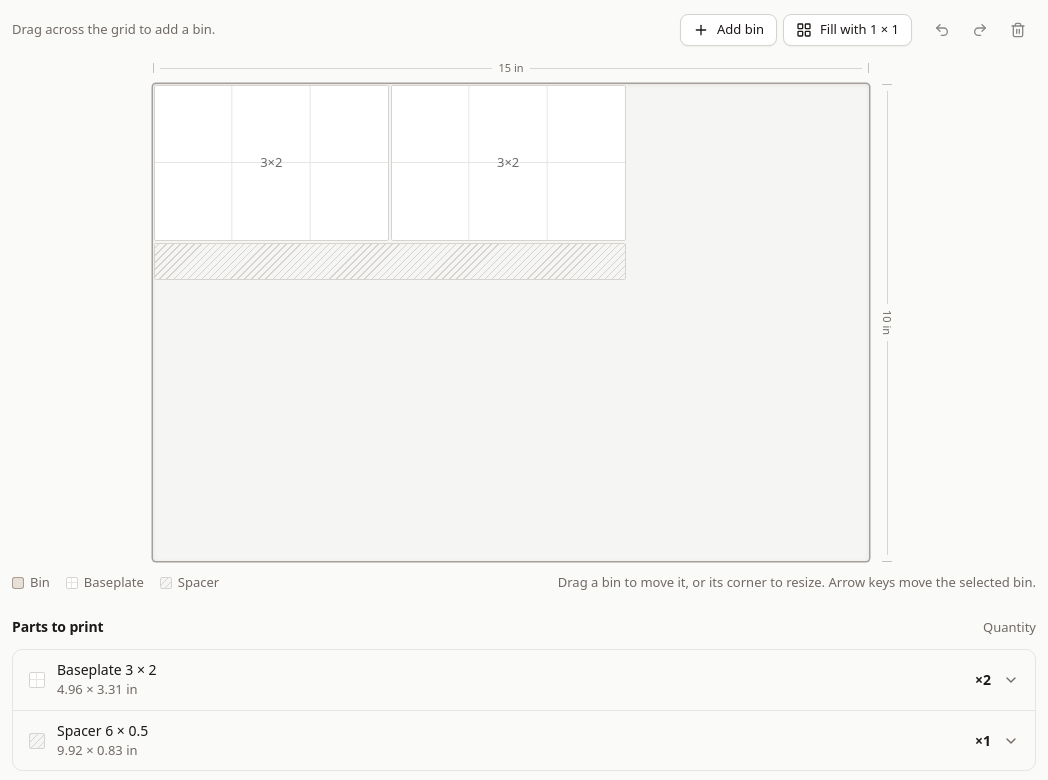
GridfinityVisualPreview parts list › toggles selection off when the selected row is clicked again
Click the button named "Baseplate 3 × 2 — 2 in this drawer".
click(89, 670)  # box [13,650,1035,710]
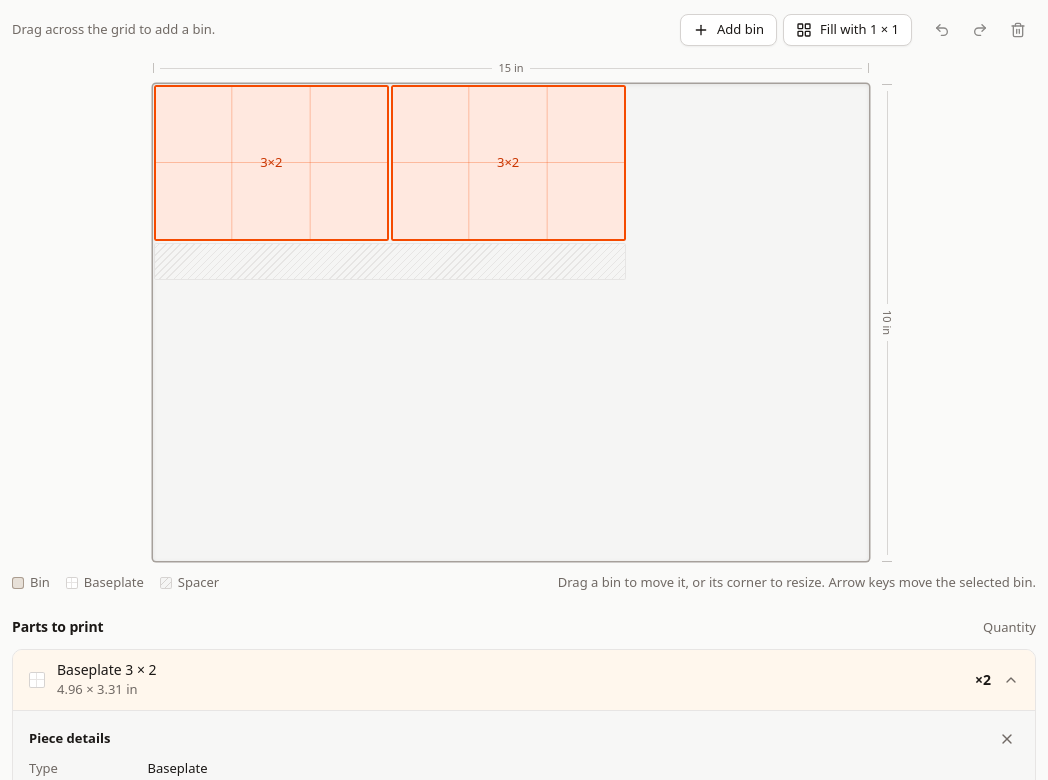
Result: the button named "Baseplate 3 × 2 — 2 in this drawer" is pressed
Result: the button named "Baseplate 3 × 2 — 2 in this drawer" has class "bg-brand-soft"
Click the button named "Baseplate 3 × 2 — 2 in this drawer".
click(89, 670)  # box [13,650,1035,710]
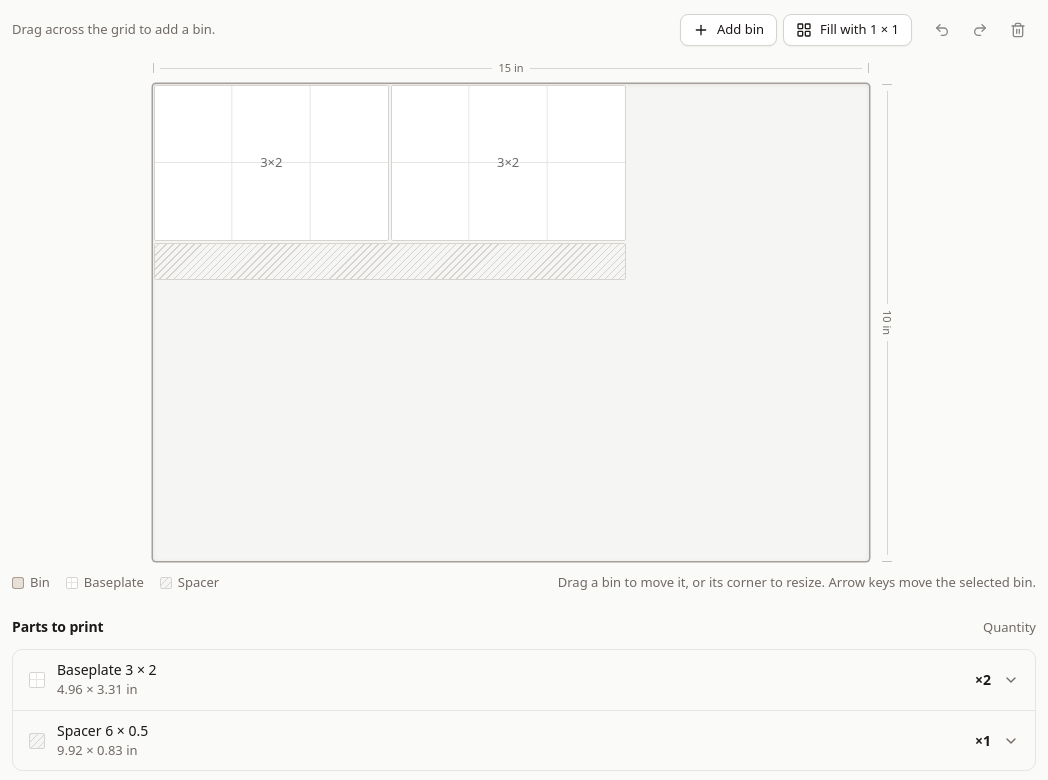
Result: the heading "Piece details" is gone
